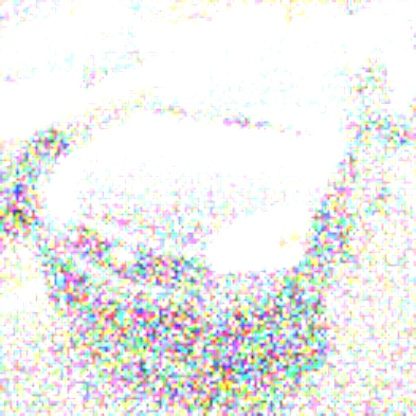Vehicle: (38, 4, 398, 393)
